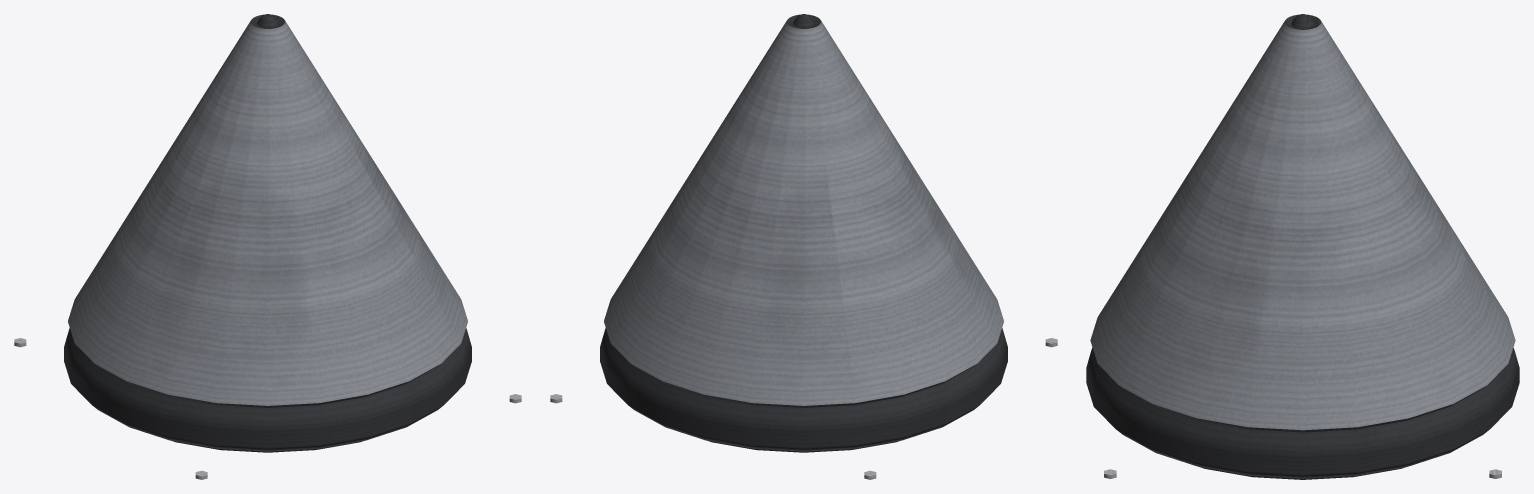
3 views of the same model, side by side, from view 1: azimuth 30°, elevation 25°; view 2: azimuth 150°, elevation 25°; view 3: azimuth 270°, elevation 25° (orthographic). The views are drawn at different scales.
Visible parts, largest first — view 1: R4B_Cone; view 2: R4B_Cone; view 3: R4B_Cone.
Boxes of the visible parts, <box> form: R4B_Cone: <box>14,14,521,479</box>; R4B_Cone: <box>550,14,1057,479</box>; R4B_Cone: <box>1086,14,1519,479</box>.
Size of the model in its own units: 0.504 by 0.4907 by 0.504.
3 materials, 3 textured.
